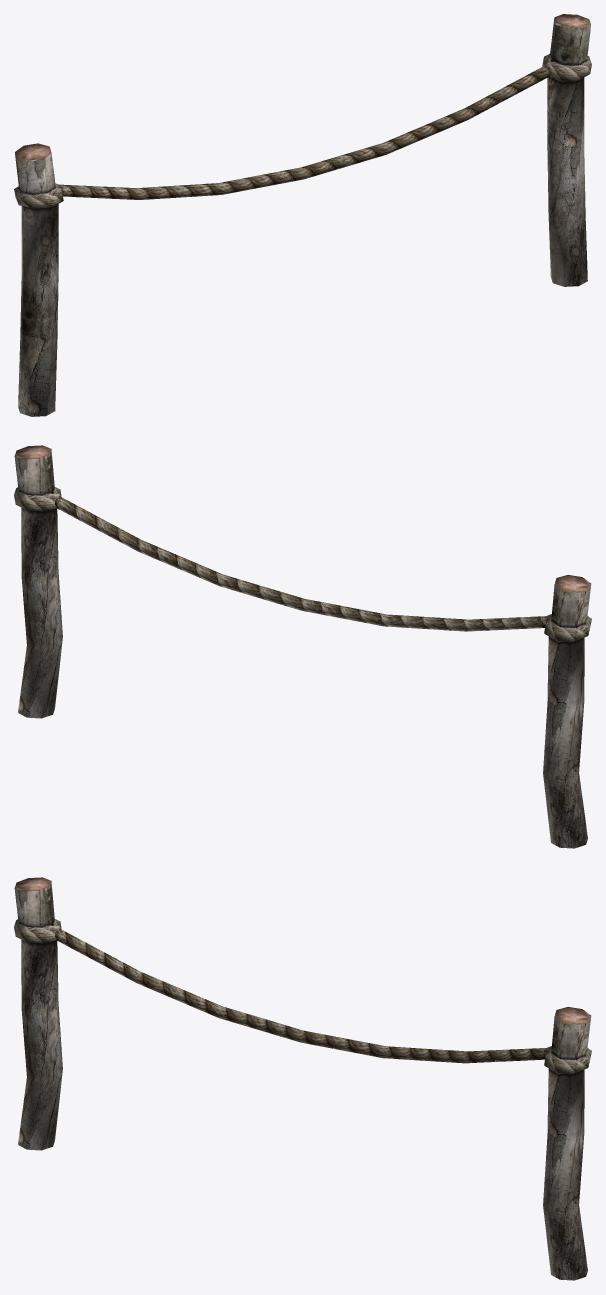
Rendered from rope_fence.glb.
3 renders of one model, top to bottom at view 1: azimuth 30°, elevation 25°; view 2: azimuth 150°, elevation 25°; view 3: azimuth 330°, elevation 25°, orthographic.
Parts seen in each view (by area): view 1: rope_fence; view 2: rope_fence; view 3: rope_fence.
Boxes of the visible parts, box(x1,y1,x2,y2) form: rope_fence: box(14, 14, 591, 416); rope_fence: box(14, 445, 591, 848); rope_fence: box(14, 877, 591, 1280).
Size of the model in its own units: 2.31 by 1 by 0.1769.
2 materials, 2 textured.
